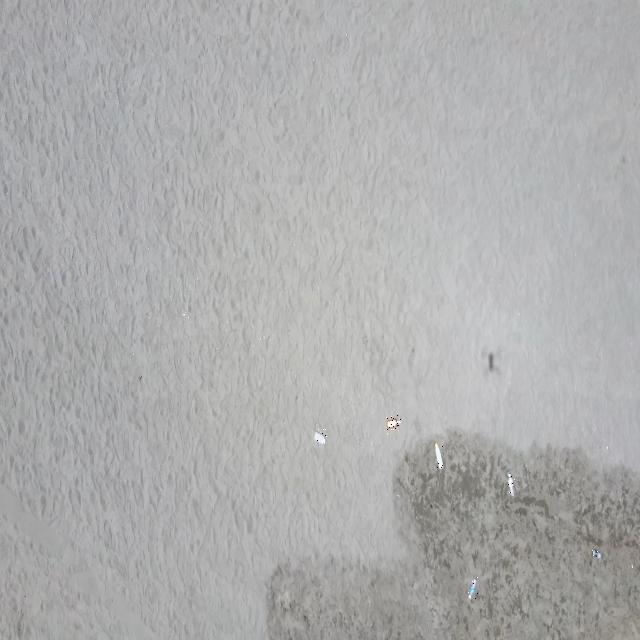Garbage: (467, 577, 476, 599), (386, 415, 400, 429), (313, 430, 326, 444), (436, 443, 442, 467), (507, 472, 512, 495), (592, 547, 600, 557)
